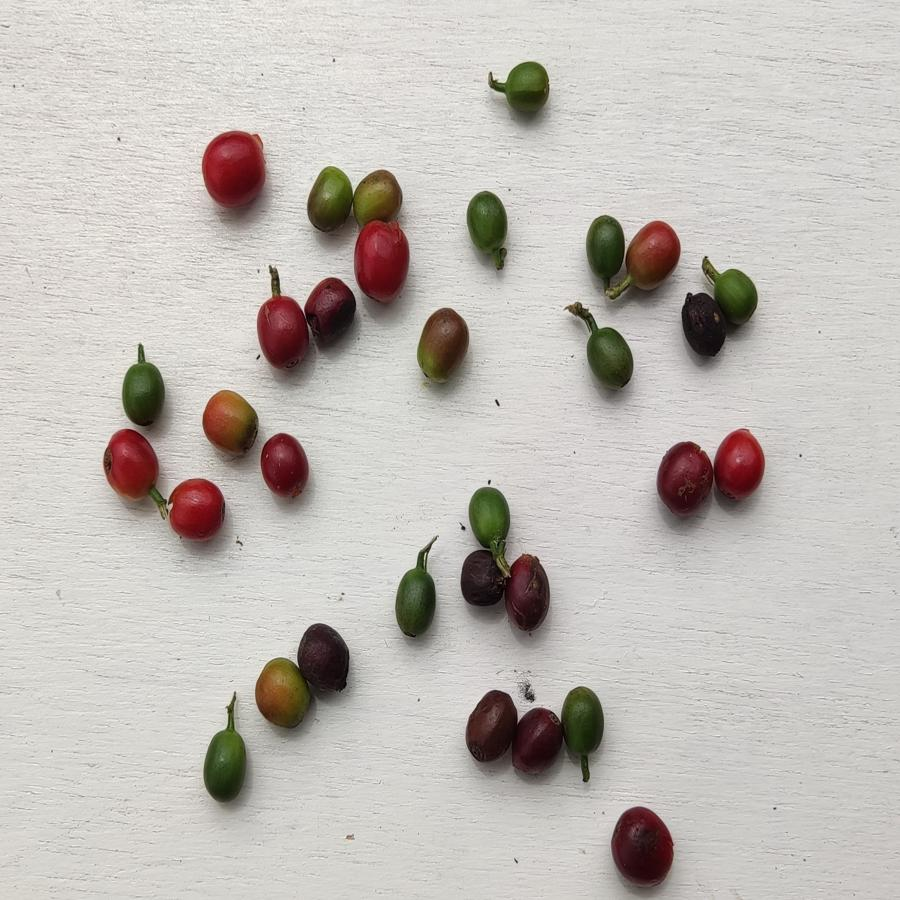Inmaduro: (200, 722, 251, 804), (120, 359, 176, 426), (558, 685, 608, 760), (497, 61, 558, 120), (582, 326, 638, 390), (463, 187, 510, 260), (393, 568, 439, 637), (710, 263, 762, 323), (462, 485, 513, 542), (583, 212, 623, 278)
Maduro: (198, 132, 271, 208), (352, 221, 412, 301), (99, 432, 162, 503), (253, 293, 308, 370), (712, 427, 766, 502), (168, 477, 225, 542), (260, 433, 311, 501)
Pinton: (197, 389, 260, 461), (414, 308, 470, 383), (626, 219, 680, 294), (253, 658, 308, 731), (306, 167, 353, 235), (352, 167, 403, 220)
Sobremaduro: (606, 804, 677, 889), (653, 437, 714, 518), (503, 551, 554, 634), (299, 622, 354, 697), (460, 689, 512, 762), (306, 276, 353, 348), (680, 290, 727, 360), (454, 547, 506, 608), (514, 706, 558, 773)
